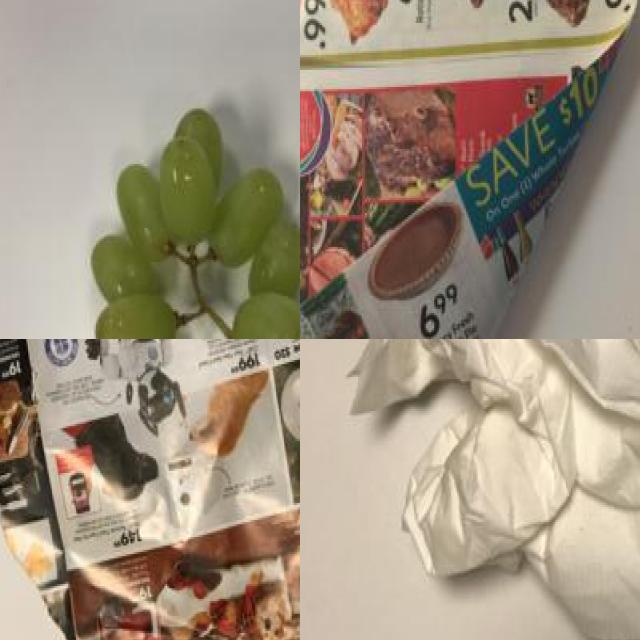compost: (57, 88, 300, 339)
paper: (300, 11, 635, 339), (0, 339, 300, 640)
trash: (329, 339, 640, 640)
